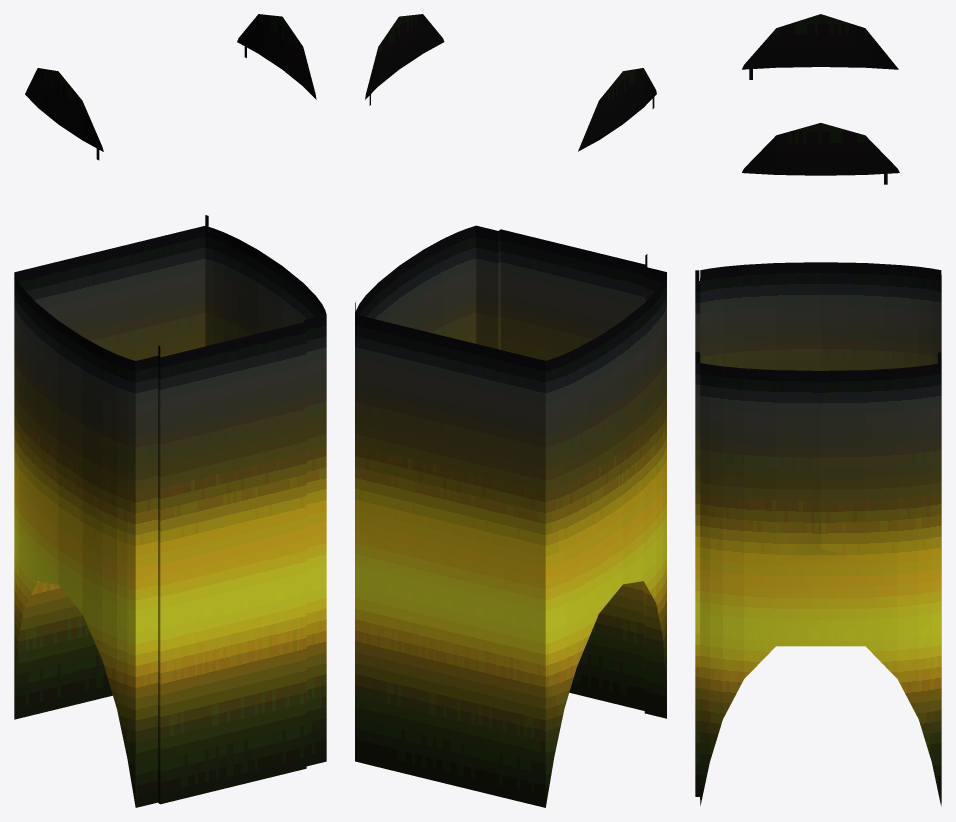
The model's file is xueyuanguang.FBX.
3 renders of one model, left to right at view 1: azimuth 30°, elevation 25°; view 2: azimuth 150°, elevation 25°; view 3: azimuth 270°, elevation 25°, orthographic.
Parts seen in each view (by area): view 1: xueyuanguang; view 2: xueyuanguang; view 3: xueyuanguang.
Part boxes in pixels (x1=…): xueyuanguang: x1=14, y1=14, x2=326, y2=807; xueyuanguang: x1=355, y1=14, x2=666, y2=807; xueyuanguang: x1=695, y1=14, x2=941, y2=806.
Bounding box in the file's own units: 1181 × 1129 × 3511.
